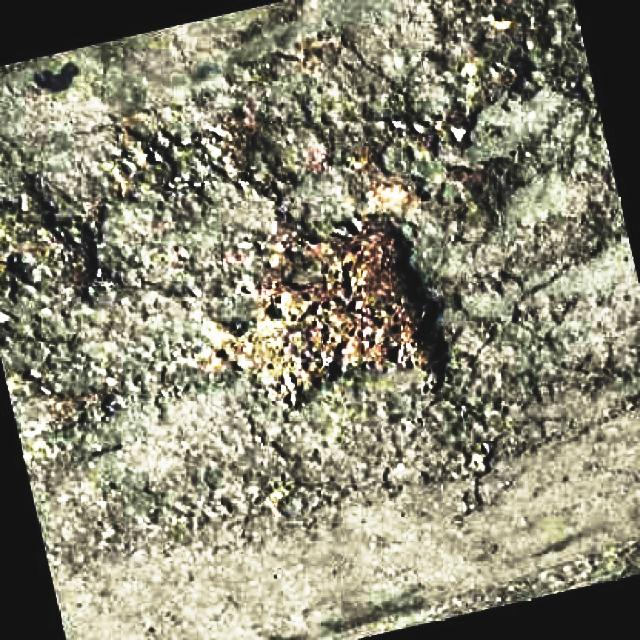pothole: (0, 103, 283, 288), (375, 0, 594, 208), (228, 205, 452, 406)
